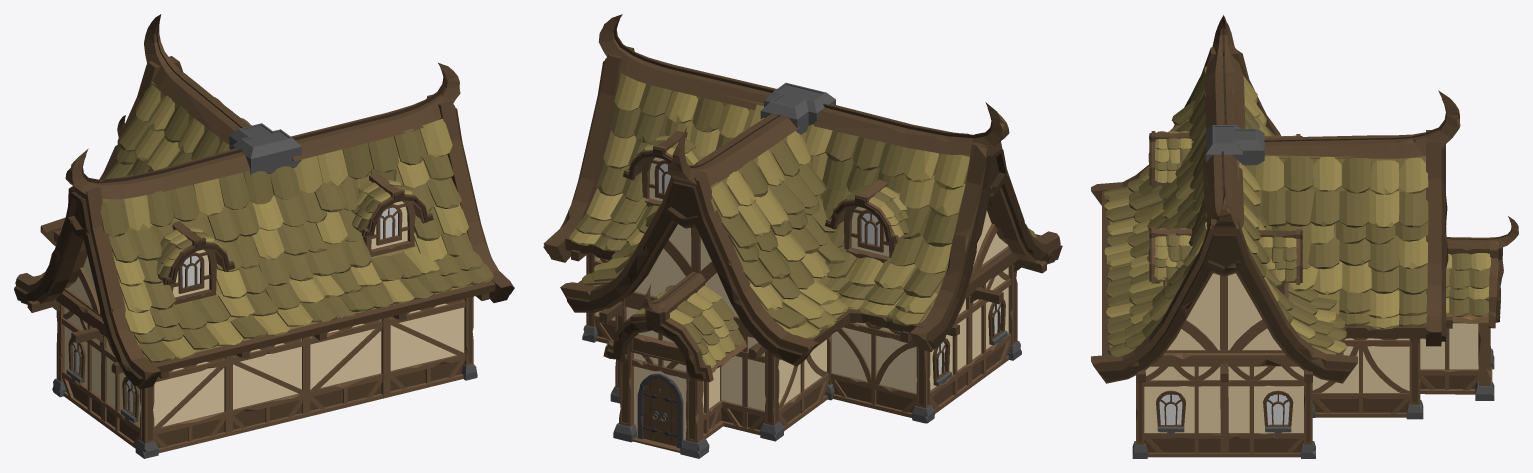
Rendered from AWS_BD_AlchemistWS_FakeBuilding.fbx.
3 views of the same model, side by side, from view 1: azimuth 30°, elevation 25°; view 2: azimuth 150°, elevation 25°; view 3: azimuth 270°, elevation 25° (orthographic). The views are drawn at different scales.
Visible parts, largest first — view 1: AWS_BD_AlchemistWS_FakeBuilding; view 2: AWS_BD_AlchemistWS_FakeBuilding; view 3: AWS_BD_AlchemistWS_FakeBuilding.
Boxes of the visible parts, x1,y1,x2,y2 form: AWS_BD_AlchemistWS_FakeBuilding: (14, 14, 514, 458); AWS_BD_AlchemistWS_FakeBuilding: (543, 14, 1062, 458); AWS_BD_AlchemistWS_FakeBuilding: (1091, 15, 1518, 458).
Size of the model in its own units: 1460 by 1045 by 1398.
